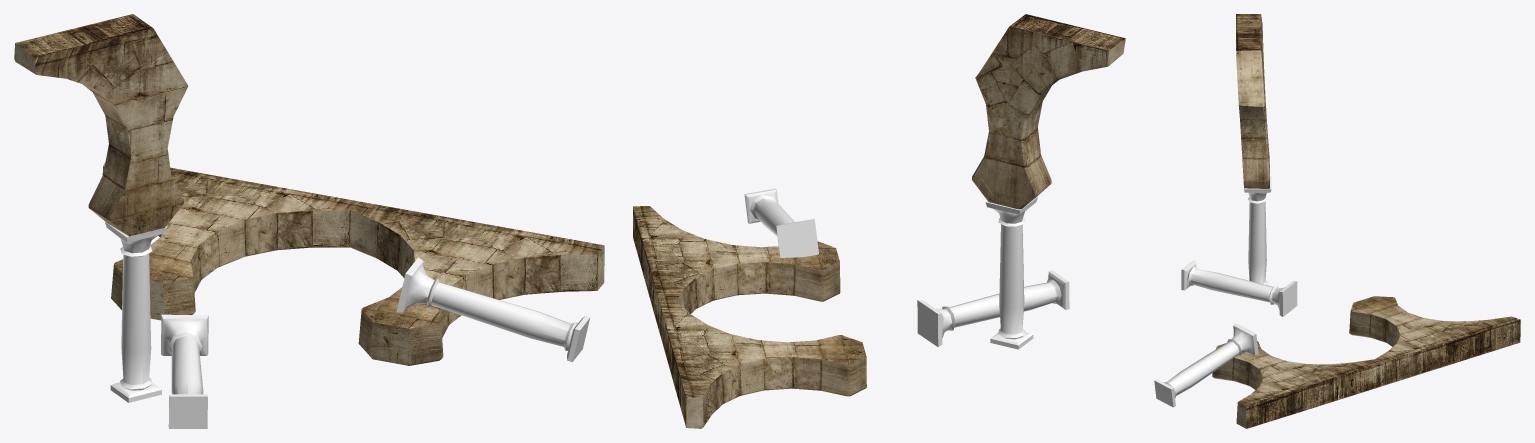
The model's file is desert_ruins_h7_LOD0.fbx.
3 renders of one model, left to right at view 1: azimuth 30°, elevation 25°; view 2: azimuth 150°, elevation 25°; view 3: azimuth 270°, elevation 25°, orthographic. The views are drawn at different scales.
Visible parts, largest first — view 1: Mesh; view 2: Mesh; view 3: Mesh.
Part boxes in pixels (x1,y1,x2,y2): Mesh: [14, 14, 604, 428]; Mesh: [633, 14, 1125, 428]; Mesh: [1154, 14, 1520, 428].
Bounding box in the file's own units: 213 × 136 × 184.
